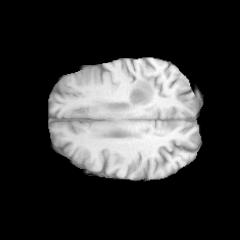glioma: (128, 80, 153, 104)
